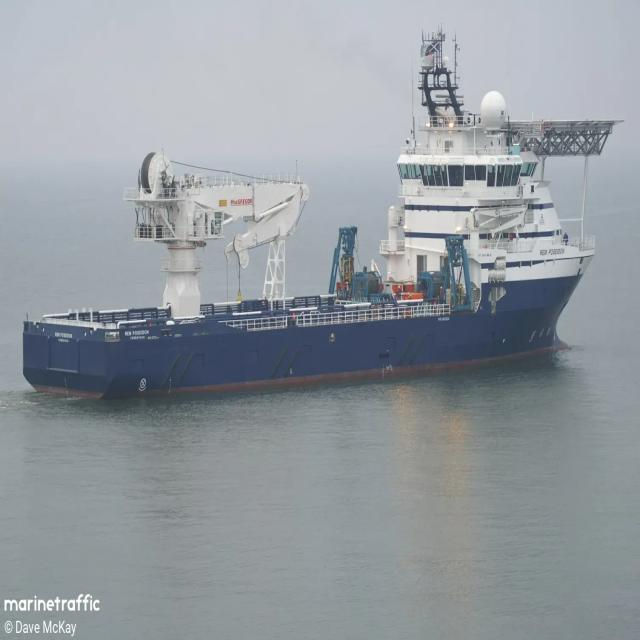Offshore: (23, 31, 619, 398)
